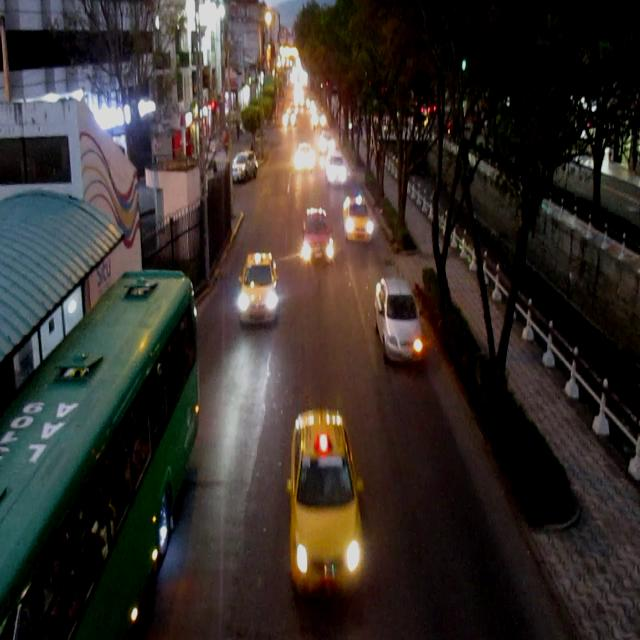BUS: (3, 274, 203, 638)
SUV: (234, 154, 258, 184)
